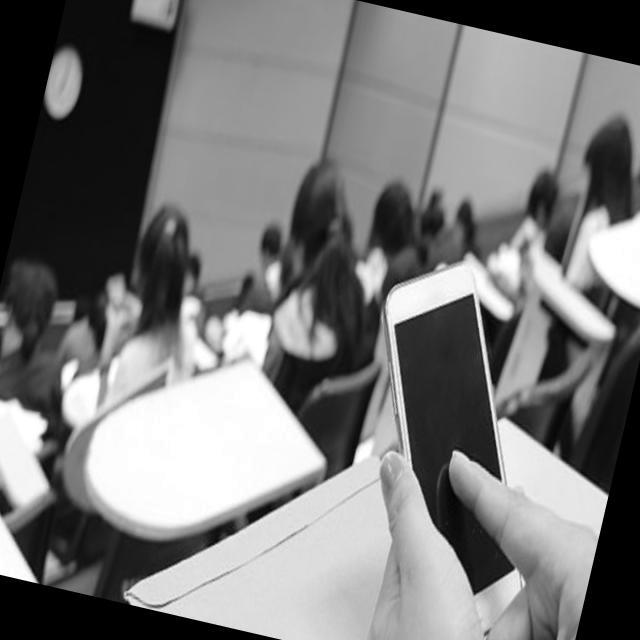phone: (316, 245, 588, 638)
